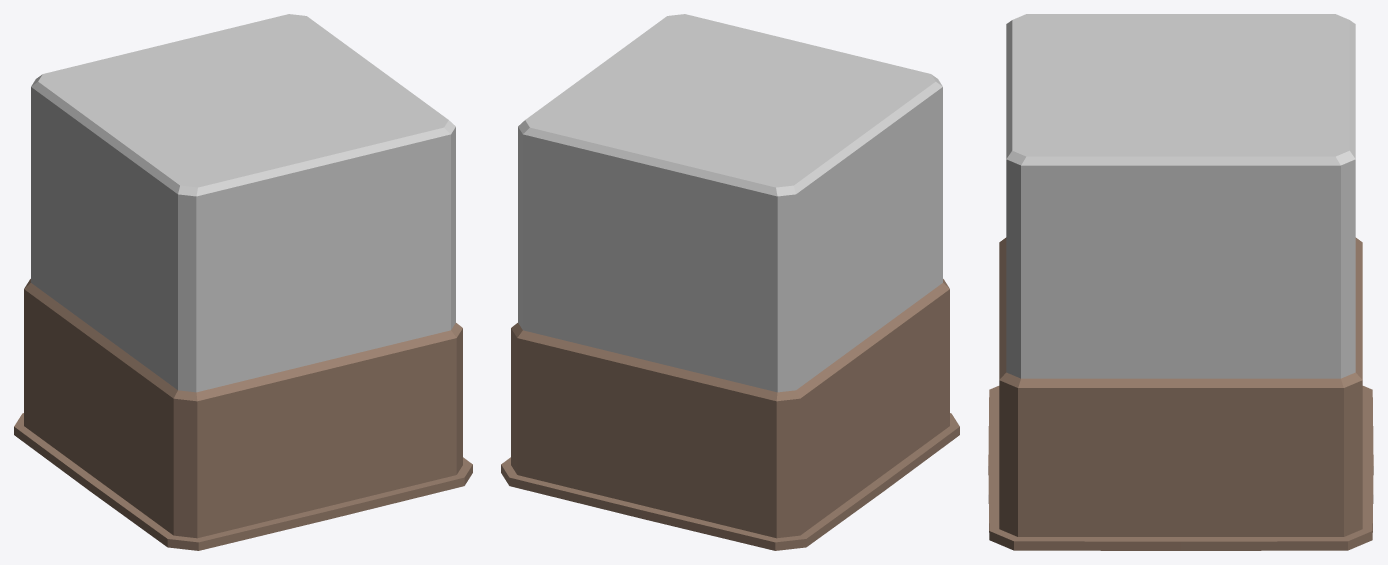
File: cage.fbx
3 renders of one model, left to right at view 1: azimuth 30°, elevation 25°; view 2: azimuth 150°, elevation 25°; view 3: azimuth 270°, elevation 25°, orthographic. The views are drawn at different scales.
Parts seen in each view (by area): view 1: 立方体; view 2: 立方体; view 3: 立方体.
Boxes of the visible parts, <box> form: 立方体: <box>14,14,472,550</box>; 立方体: <box>501,14,959,550</box>; 立方体: <box>988,14,1373,550</box>.
Size of the model in its own units: 212 by 233 by 212.
